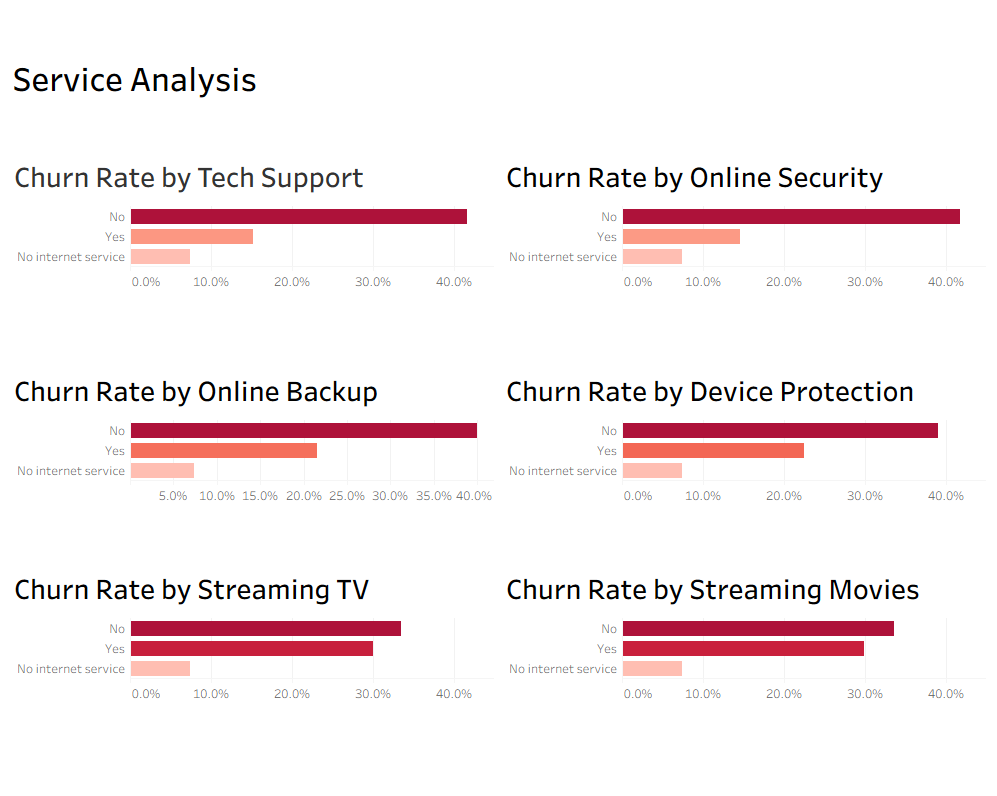

This screenshot's page, from the dashboard's own definition file:
{"tool":"tableau","page":{"name":"Service Analysis","canvas":[1000,800],"ordinal":2},"visuals":[{"type":"text","box":[8,8,984,149]},{"type":"worksheet","title":"Churn Rate by Tech Support","mark":"Automatic","rows":["Tech Support"],"cols":["Calculation_0262250169528320"],"box":[8,157,492,209]},{"type":"worksheet","title":"Churn Rate by Online Security","mark":"Automatic","rows":["Online Security"],"cols":["Calculation_0262250169528320"],"box":[500,157,492,209]},{"type":"worksheet","title":"Churn Rate by Online Backup","mark":"Automatic","rows":["Online Backup"],"cols":["Calculation_0262250169528320"],"box":[8,366,492,198]},{"type":"worksheet","title":"Churn Rate by Device Protection","mark":"Automatic","rows":["Device Protection"],"cols":["Calculation_0262250169528320"],"box":[500,366,492,198]},{"type":"worksheet","title":"Churn Rate by Streaming TV","mark":"Automatic","rows":["Streaming TV"],"cols":["Calculation_0262250169528320"],"box":[8,564,492,228]},{"type":"worksheet","title":"Churn Rate by Streaming Movies","mark":"Automatic","rows":["Streaming Movies"],"cols":["Calculation_0262250169528320"],"box":[500,564,492,228]}]}

Visuals, with their boxes in screenshot pixels (x1, y1, x2, y2), scaled from the page's 1000x800 canvas onto the 997x796 screenshot:
text: [8, 8, 989, 156]
"Churn Rate by Tech Support" worksheet: [8, 156, 498, 364]
"Churn Rate by Online Security" worksheet: [498, 156, 989, 364]
"Churn Rate by Online Backup" worksheet: [8, 364, 498, 561]
"Churn Rate by Device Protection" worksheet: [498, 364, 989, 561]
"Churn Rate by Streaming TV" worksheet: [8, 561, 498, 788]
"Churn Rate by Streaming Movies" worksheet: [498, 561, 989, 788]
